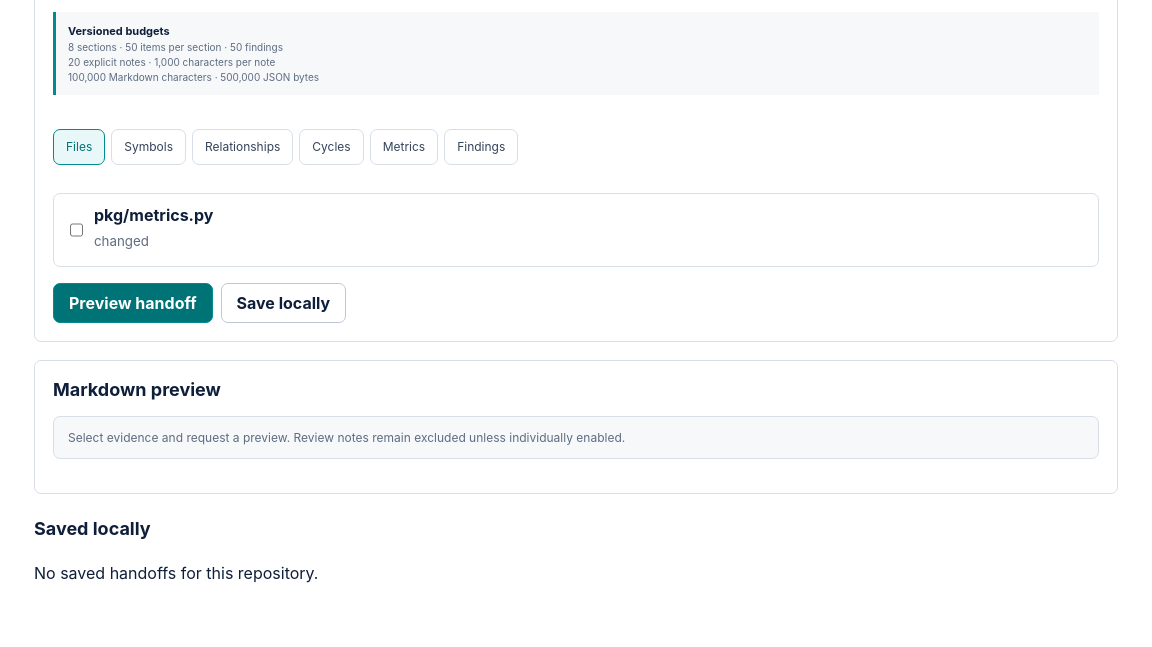
Test: HandoffView › ignores a stale preview after a newer objective succeeds
(page scrolled)
Click the button "Preview handoff" at (133, 303), box [53, 283, 212, 323]
(page scrolled)
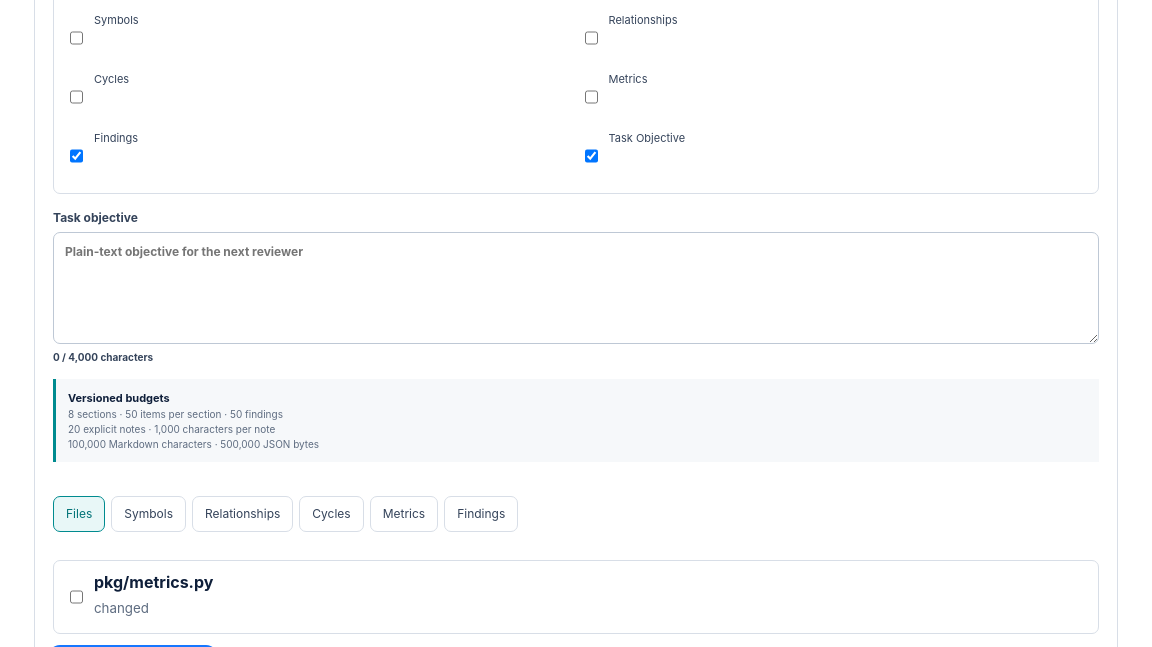
Type "new" into the text box labelled "Task objective 0 / 4,000 characters" at (576, 288), box [53, 232, 1099, 344]
(page scrolled)
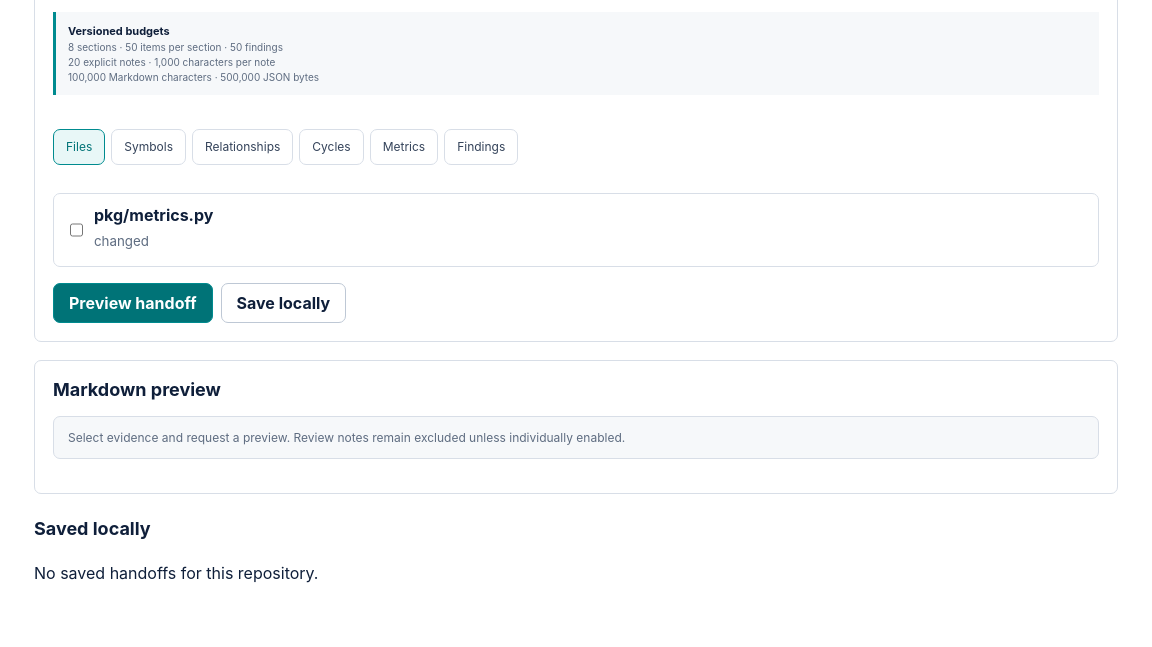
Click the button "Preview handoff" at (133, 303), box [53, 283, 212, 323]
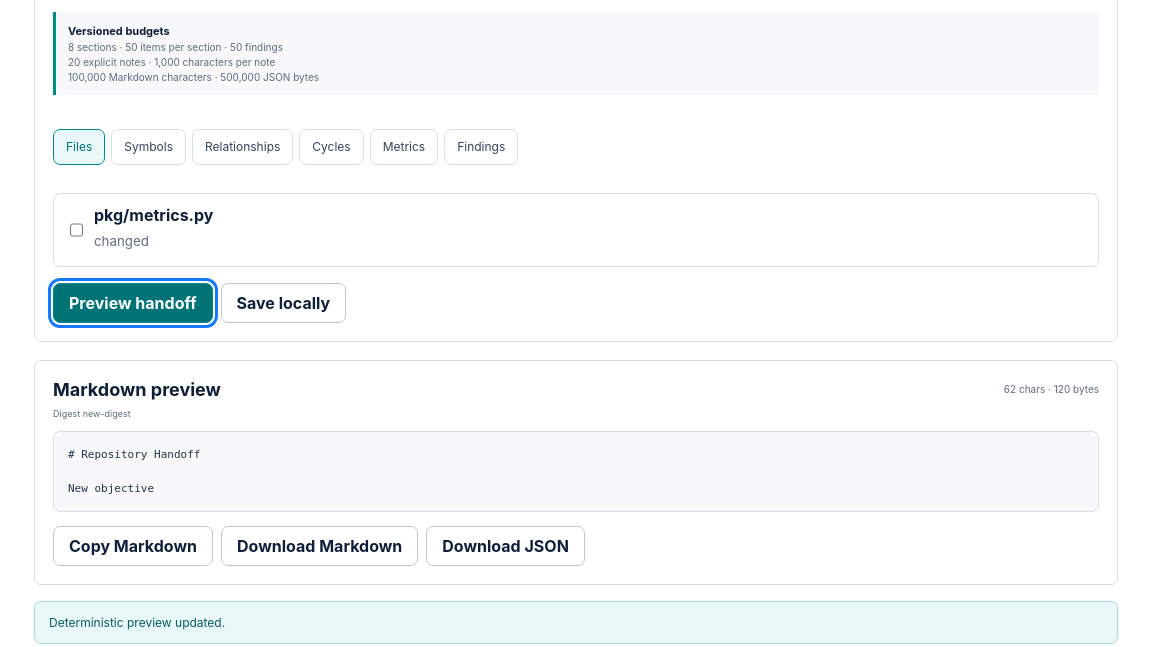
Result: the text "New objective" is shown at [68, 448, 200, 495]
